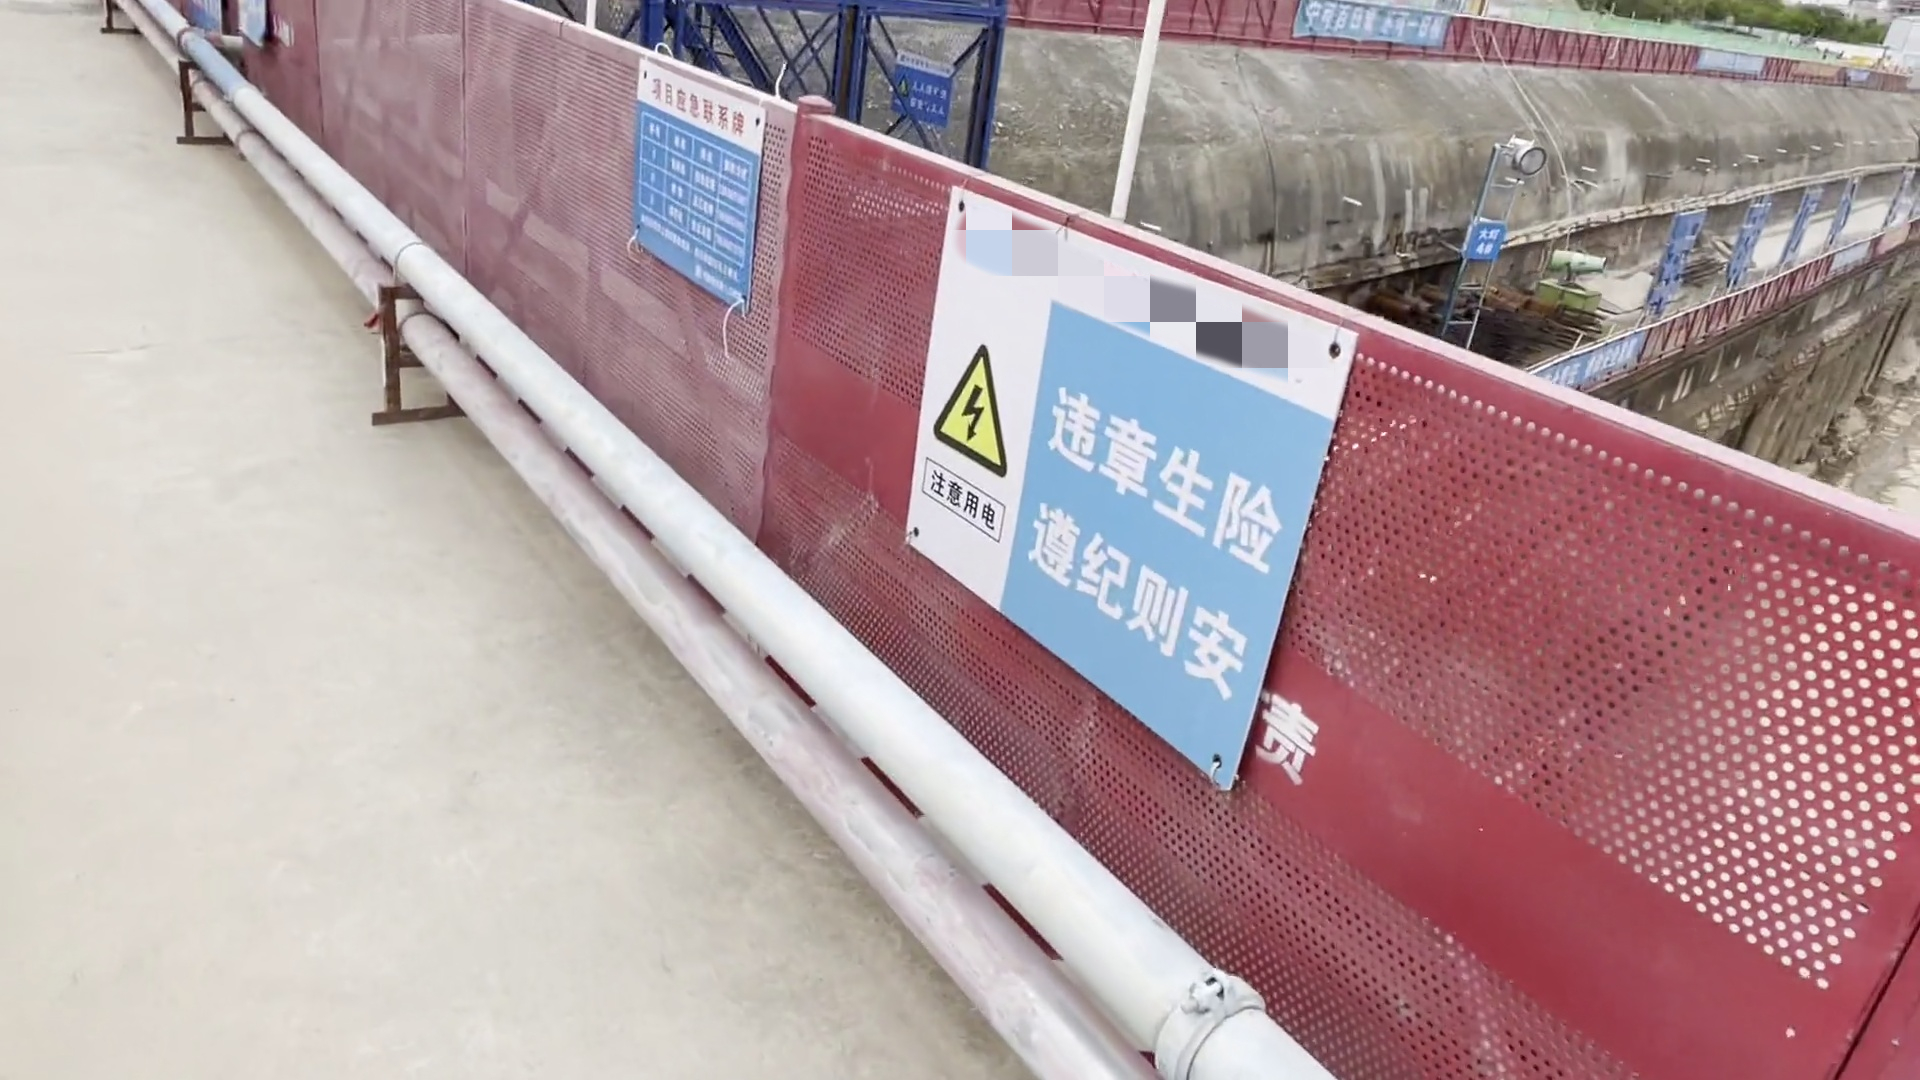slogan: (1261, 1, 1466, 50), (1691, 22, 1812, 91)
